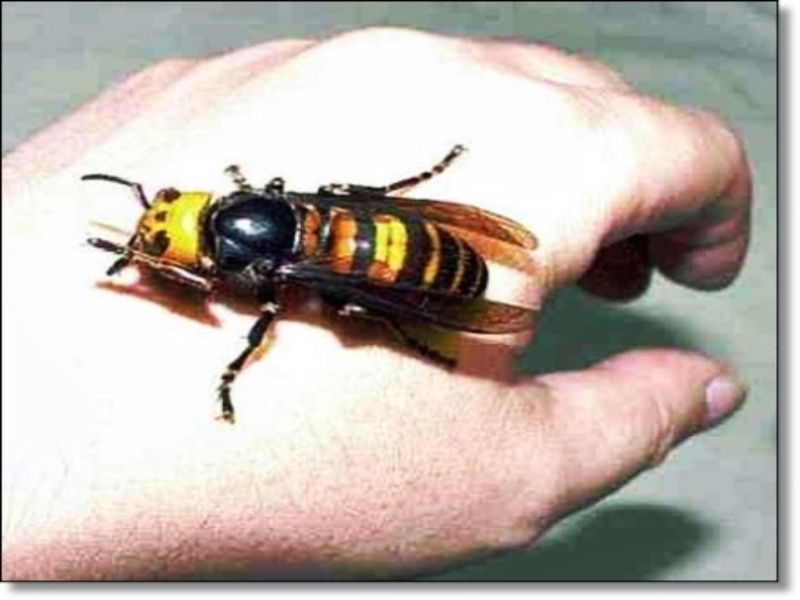asian_giant_hornet: (127, 180, 492, 315)
